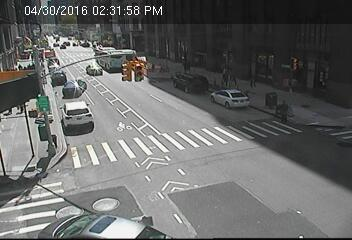neg: (120, 50, 145, 83), (19, 134, 40, 162), (299, 134, 320, 162), (117, 163, 135, 188), (175, 129, 192, 152), (233, 122, 250, 144), (312, 59, 327, 78), (108, 114, 122, 133), (38, 98, 51, 116), (82, 71, 95, 88)
pos: (274, 99, 292, 123), (245, 71, 262, 94)
